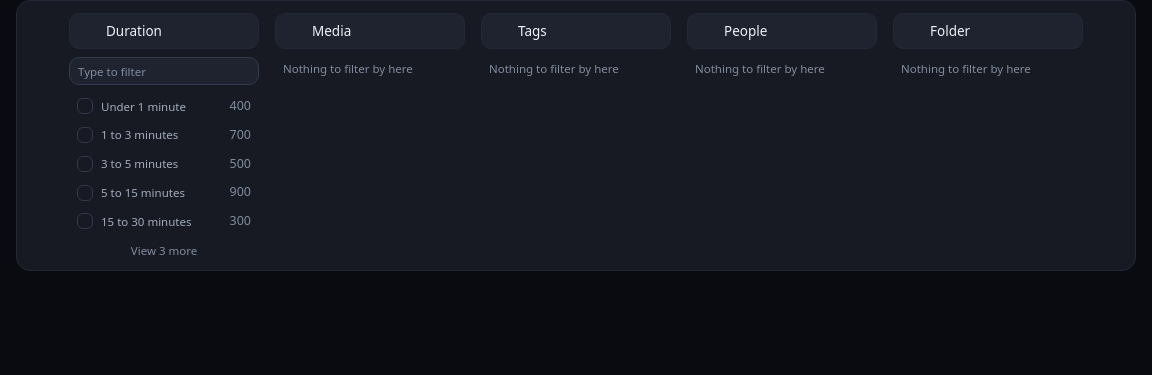
Test: a column whose values are a LADDER › keeps a band it has never heard of, at the end
Click the button with class "more" at (164, 251), box [131, 243, 197, 258]
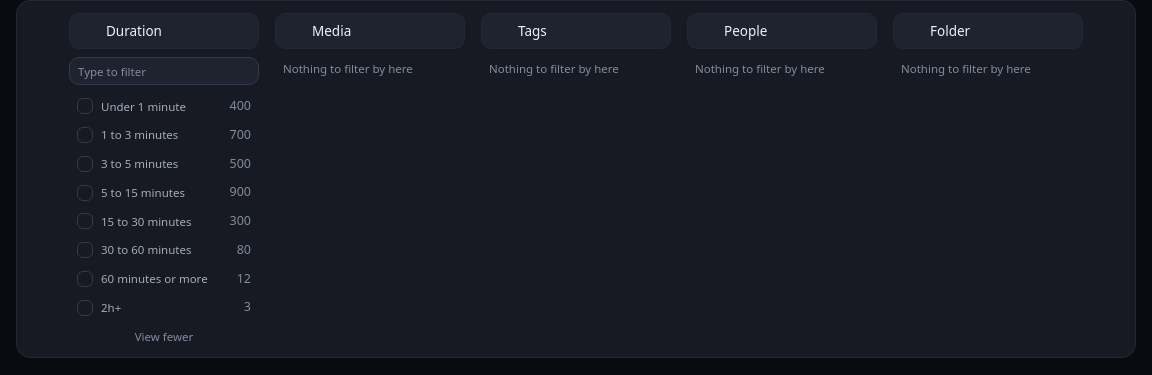
Expected: the button "2h+ 3" is shown, [69, 294, 259, 321]
